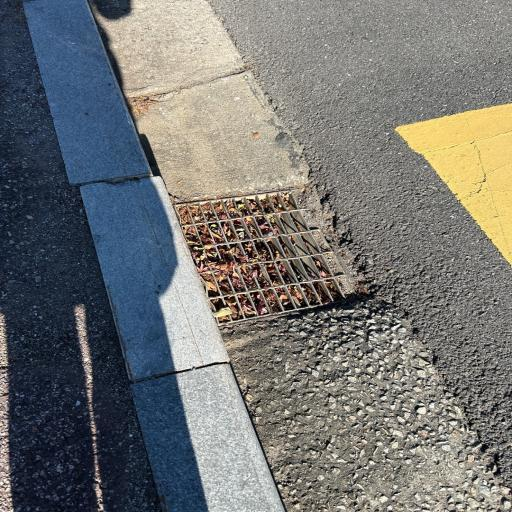debris: (193, 248, 235, 293), (240, 264, 264, 284), (287, 287, 307, 307), (263, 291, 282, 312), (239, 295, 257, 317), (227, 298, 244, 320), (276, 289, 295, 308), (252, 293, 269, 314), (302, 286, 319, 304), (257, 219, 274, 236), (327, 282, 343, 300), (185, 227, 200, 246), (316, 285, 331, 302), (198, 225, 212, 243), (210, 224, 224, 242), (214, 202, 229, 218), (226, 201, 240, 218), (315, 260, 329, 277), (191, 204, 204, 222), (257, 244, 272, 259), (202, 204, 216, 220), (237, 200, 251, 216), (235, 222, 249, 238), (247, 220, 260, 237), (231, 273, 244, 290), (248, 199, 262, 214), (179, 207, 191, 224), (283, 195, 297, 209), (245, 243, 258, 258), (214, 307, 235, 316), (272, 197, 285, 211), (270, 218, 283, 232), (223, 224, 235, 239), (261, 198, 274, 211), (231, 247, 245, 259), (208, 248, 220, 260), (220, 248, 233, 259), (272, 246, 283, 259), (267, 263, 278, 275), (221, 281, 232, 292), (279, 263, 286, 273)
drain: (174, 190, 360, 324)
